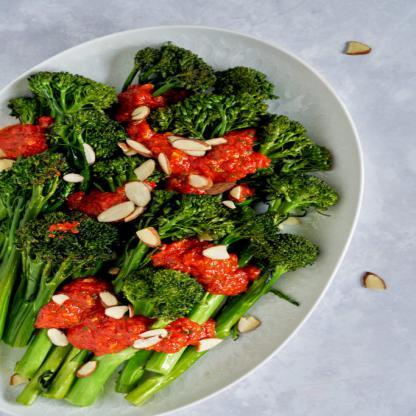broccoli: (0, 40, 341, 415)
